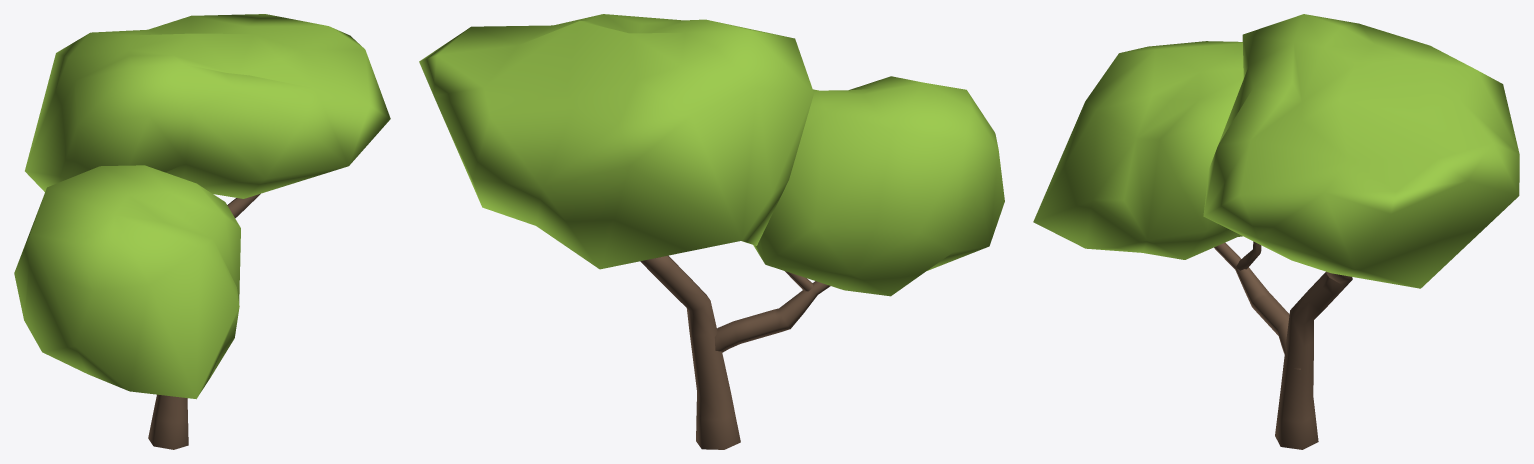
File: tree_6.fbx
The picture shows the model from 3 angles, left to right: view 1: azimuth 30°, elevation 25°; view 2: azimuth 150°, elevation 25°; view 3: azimuth 270°, elevation 25°; orthographic projection. The views are drawn at different scales.
Visible parts, largest first — view 1: Tube; view 2: Tube; view 3: Tube.
Boxes of the visible parts, box(x1,y1,x2,y2) form: Tube: box(14, 14, 390, 449); Tube: box(419, 14, 1004, 449); Tube: box(1033, 14, 1519, 449).
Bounding box in the file's own units: 263 × 232 × 249.
